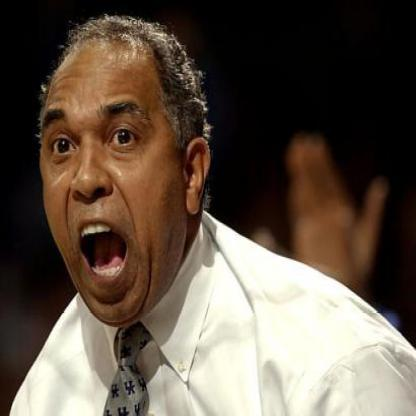face: (40, 21, 189, 329)
